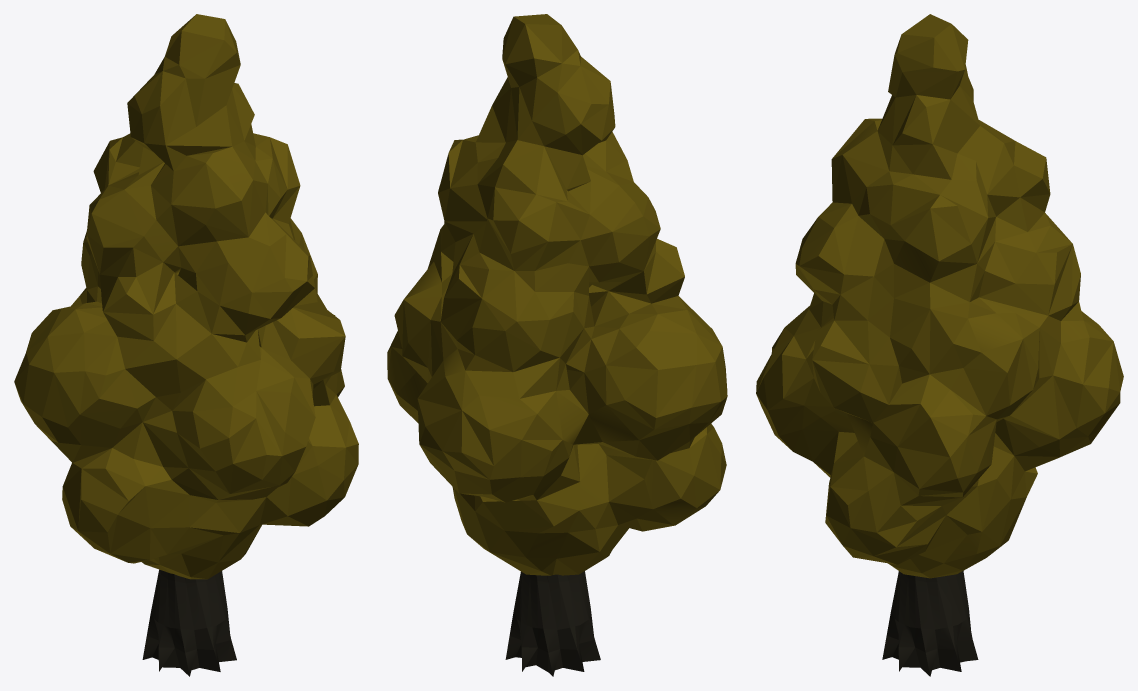
Rendered from tree_2_2.obj.
The picture shows the model from 3 angles, left to right: view 1: azimuth 30°, elevation 25°; view 2: azimuth 150°, elevation 25°; view 3: azimuth 270°, elevation 25°; orthographic projection.
Parts seen in each view (by area): view 1: polySurface43, polySurface21 pSphere23; view 2: polySurface43, polySurface21 pSphere23; view 3: polySurface43, polySurface21 pSphere23.
Boxes of the visible parts, left/top/right/bottom form: polySurface43: left=14, top=14, right=358, bottom=579; polySurface21 pSphere23: left=142, top=569, right=236, bottom=676; polySurface43: left=387, top=14, right=727, bottom=575; polySurface21 pSphere23: left=505, top=571, right=600, bottom=676; polySurface43: left=756, top=14, right=1123, bottom=578; polySurface21 pSphere23: left=882, top=571, right=978, bottom=676.
Bounding box in the file's own units: 17.99 × 33.76 × 17.55.
